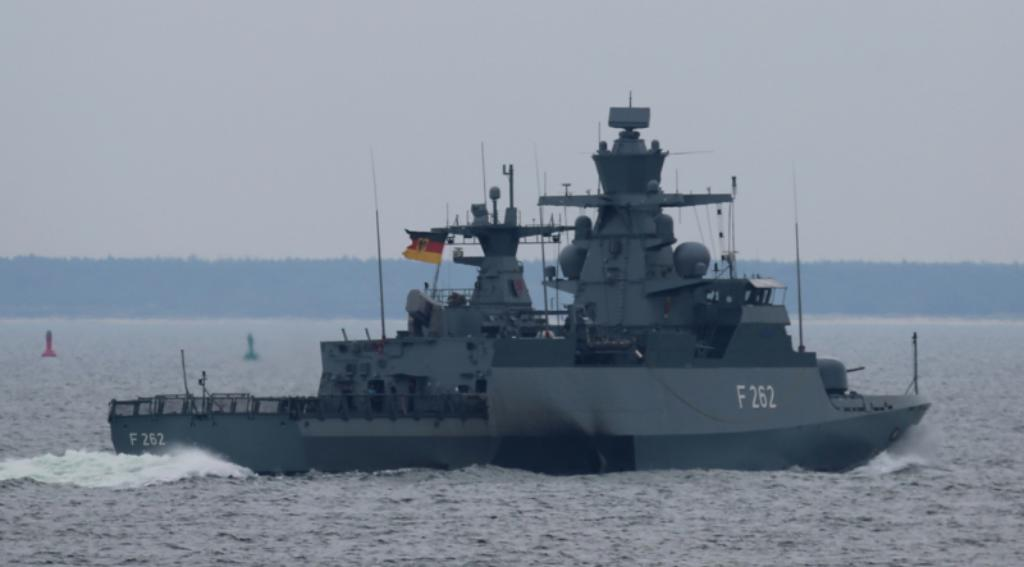Warship: (101, 87, 933, 473)
